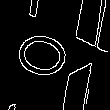O_SE: (0, 23, 75, 86)
